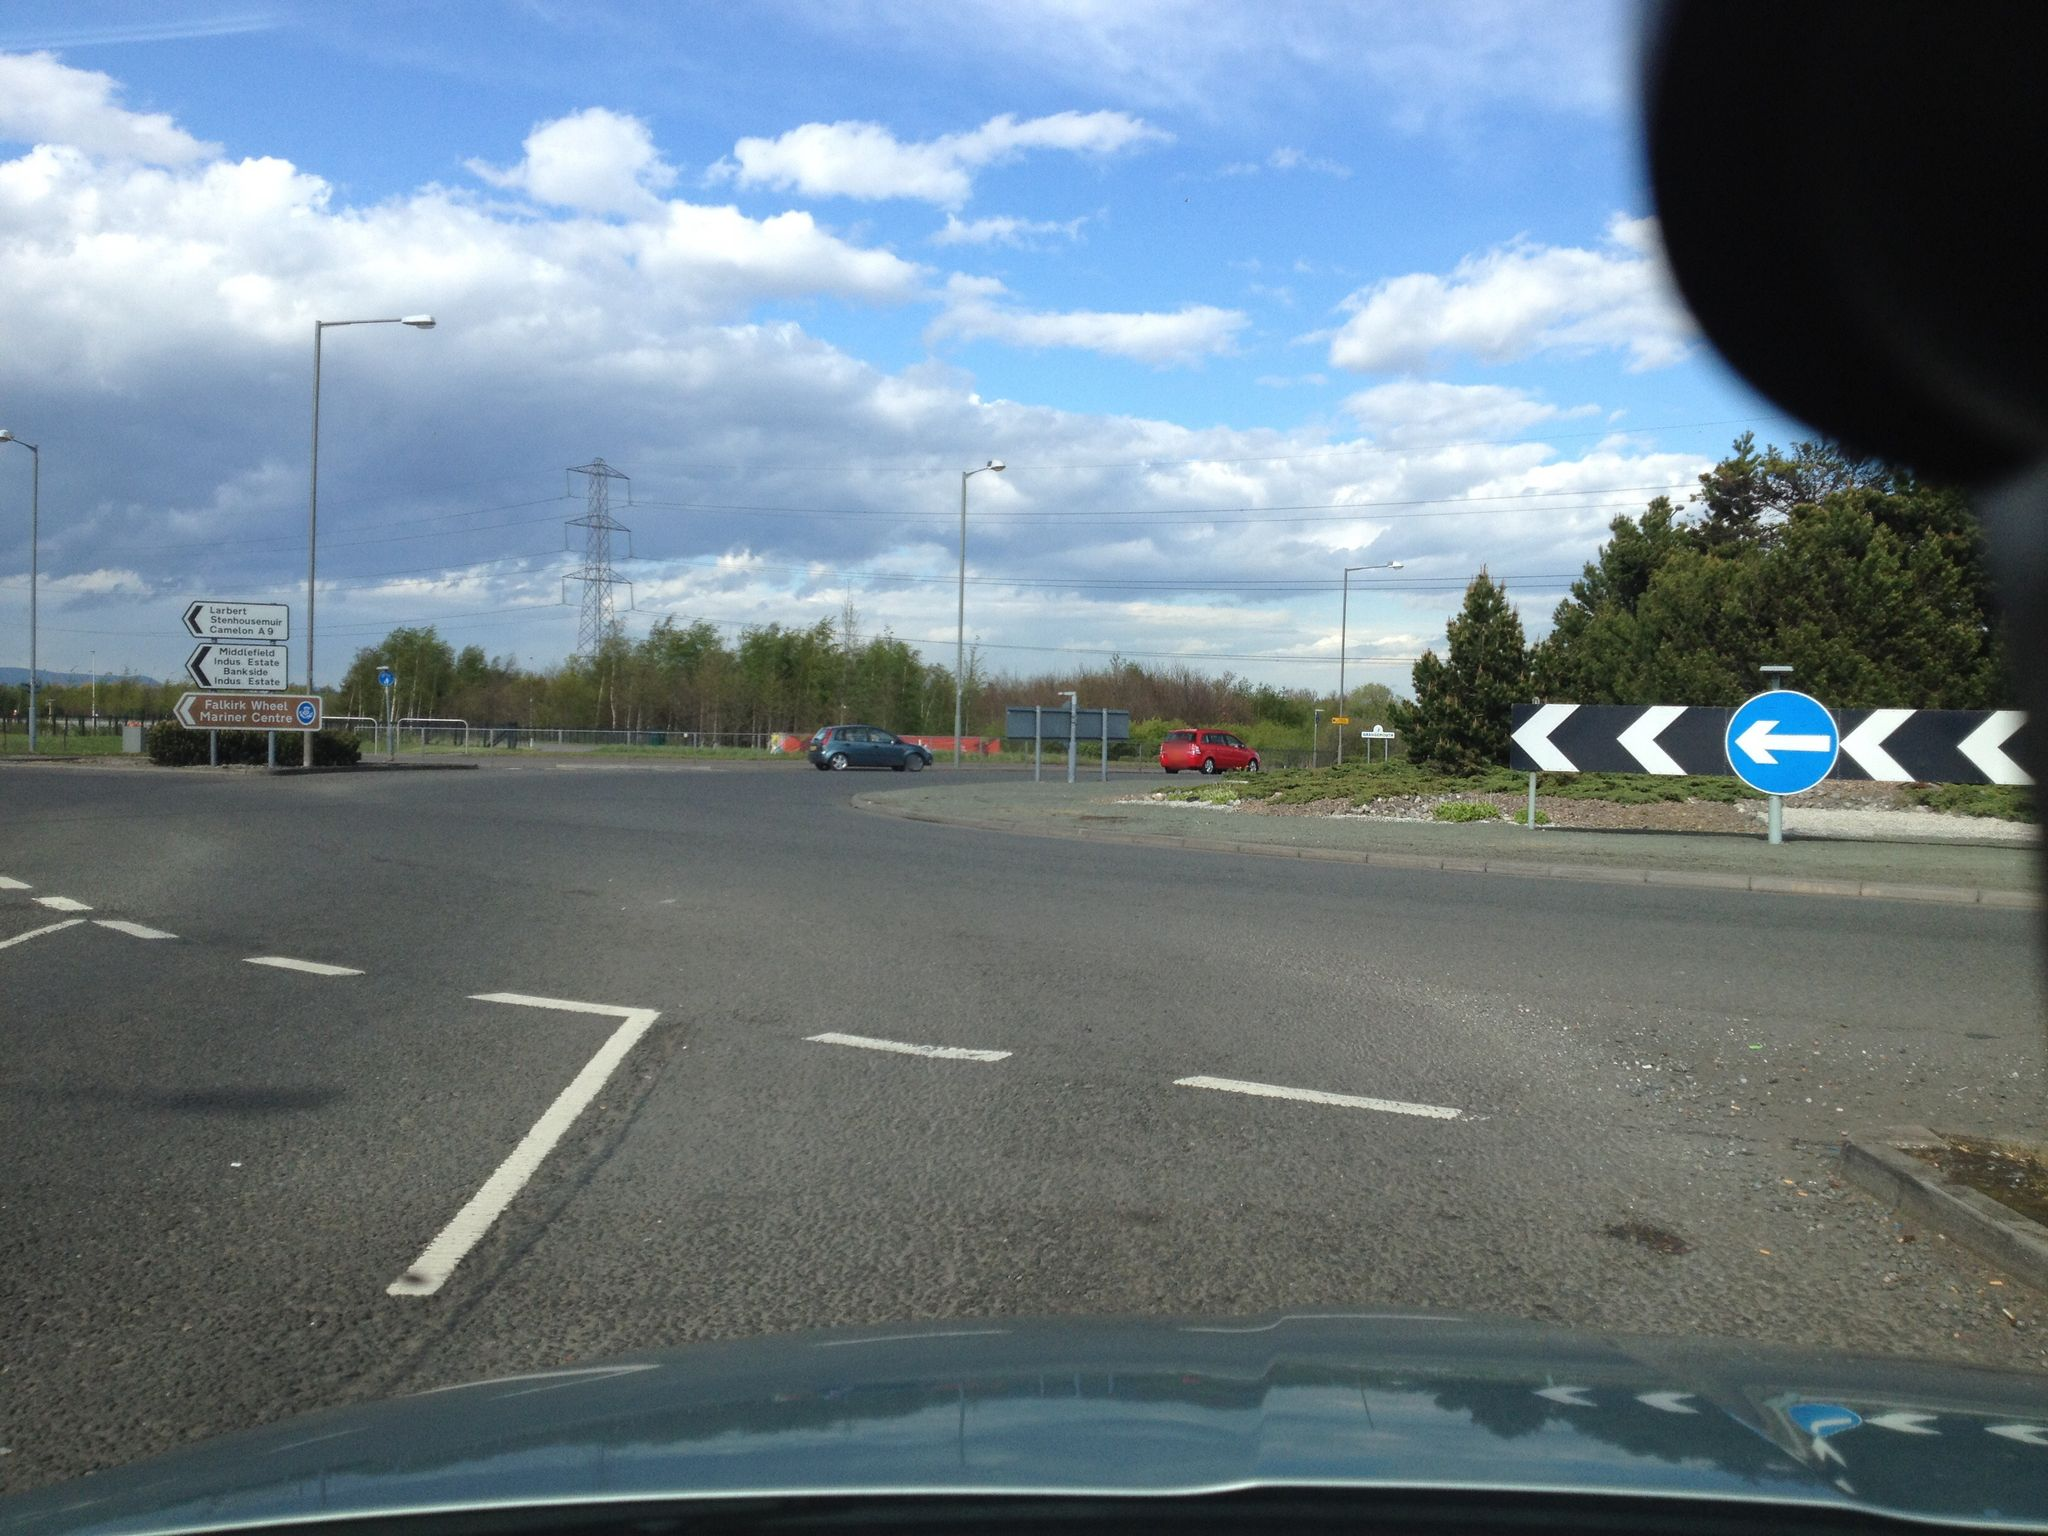car: (806, 724, 934, 771), (1159, 728, 1261, 773)
